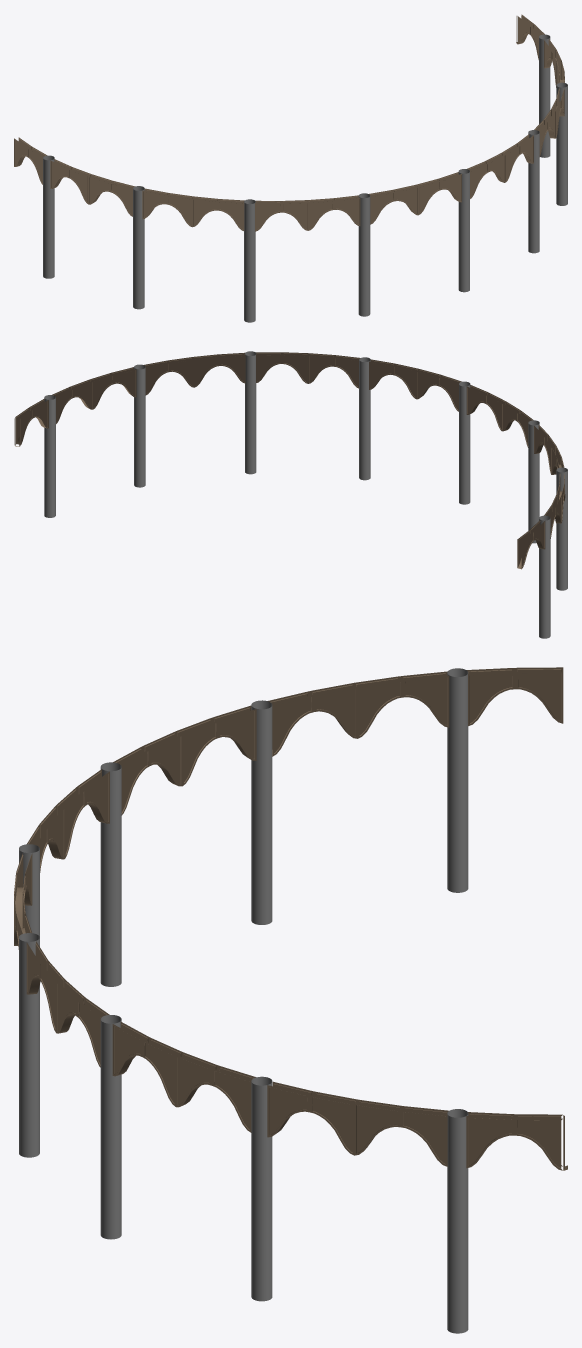
Rendered from V2_CurvedArchway 1.fbx.
The picture shows the model from 3 angles, top to bottom: view 1: azimuth 30°, elevation 25°; view 2: azimuth 150°, elevation 25°; view 3: azimuth 270°, elevation 25°; orthographic projection. The views are drawn at different scales.
Parts seen in each view (by area): view 1: CurvedArchway; view 2: CurvedArchway; view 3: CurvedArchway.
Part boxes in pixels (x1,y1,x2,y2): CurvedArchway: (14,14,567,322); CurvedArchway: (14,351,567,638); CurvedArchway: (14,667,567,1333).
Bounding box in the file's own units: 10093 × 5237 × 2250.
